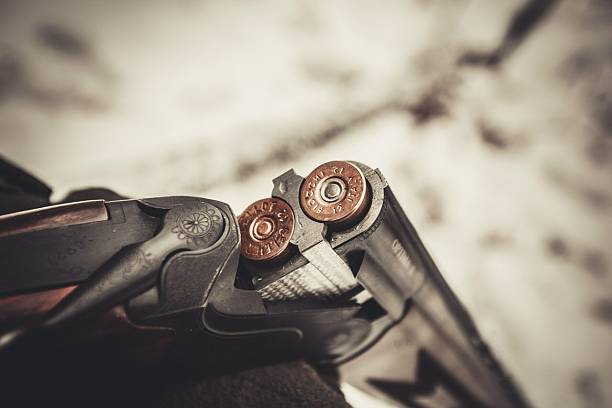shotgun: (4, 155, 612, 404)
